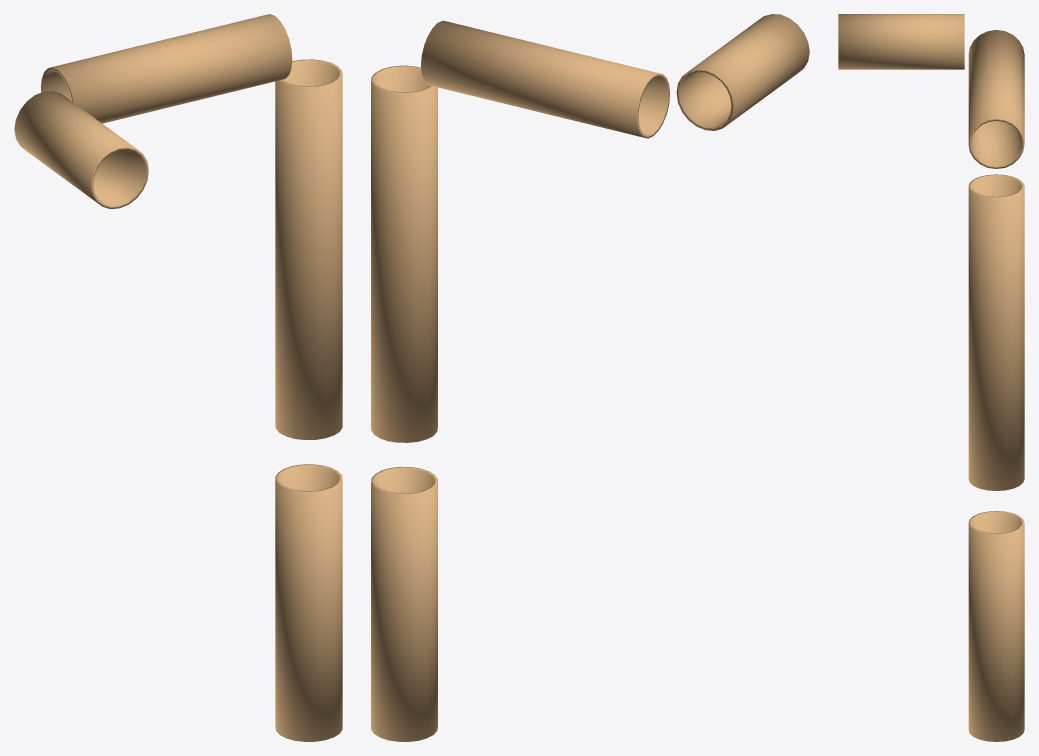
The model's file is slab_pipes_supply__plumbing__a27d13e6.glb.
3 views of the same model, side by side, from view 1: azimuth 30°, elevation 25°; view 2: azimuth 150°, elevation 25°; view 3: azimuth 270°, elevation 25° (orthographic). The views are drawn at different scales.
Parts seen in each view (by area): view 1: pipe_supply_manifold_feed__copper.903; view 2: pipe_supply_manifold_feed__copper.903; view 3: pipe_supply_manifold_feed__copper.903.
Boxes of the visible parts, box(x1,y1,x2,y2) form: pipe_supply_manifold_feed__copper.903: box(14, 14, 342, 741); pipe_supply_manifold_feed__copper.903: box(371, 14, 809, 741); pipe_supply_manifold_feed__copper.903: box(838, 14, 1024, 741).
Size of the model in its own units: 0.1302 by 0.2611 by 0.0737.
